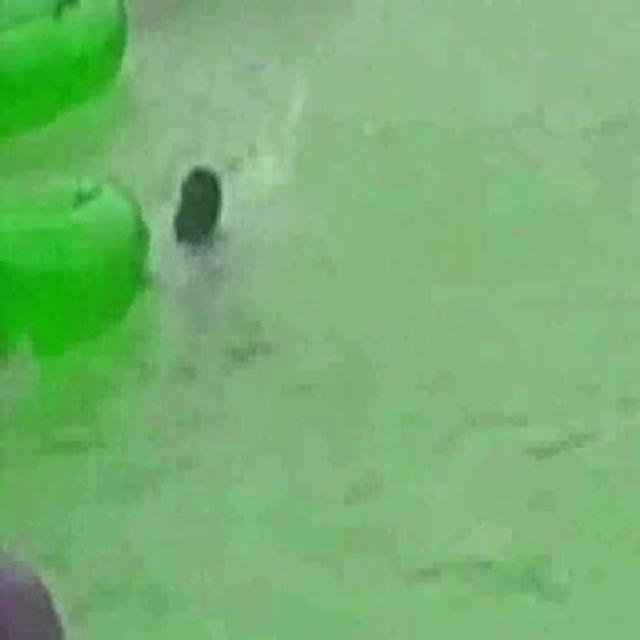drowning: (154, 152, 271, 379)
